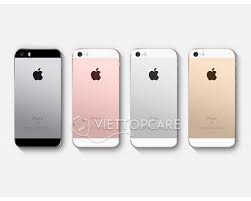iphone: (11, 43, 65, 151), (69, 44, 123, 152), (126, 44, 180, 152), (185, 44, 239, 152)
